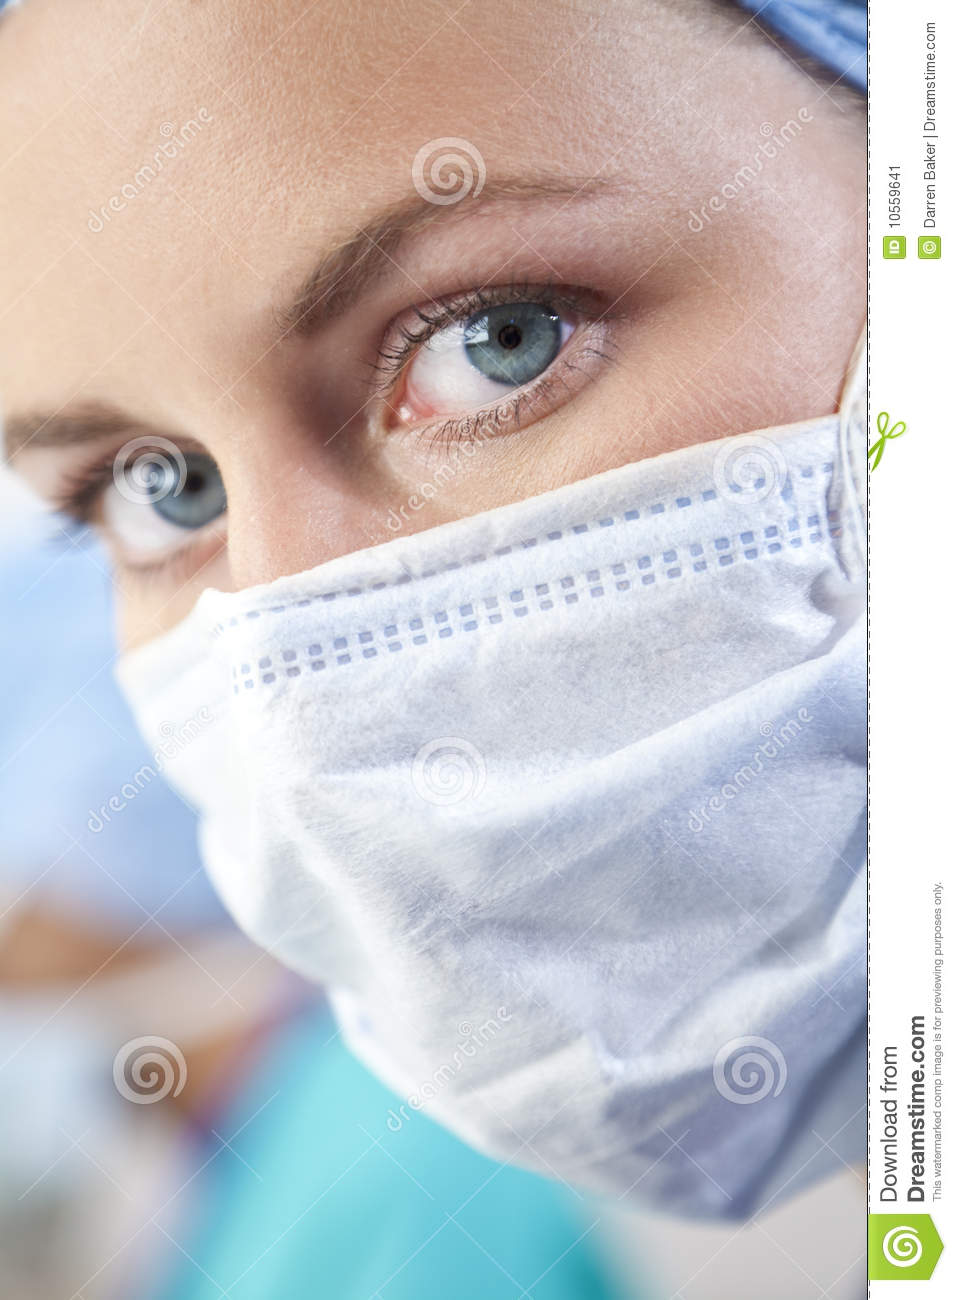mask: (96, 537, 862, 1237)
